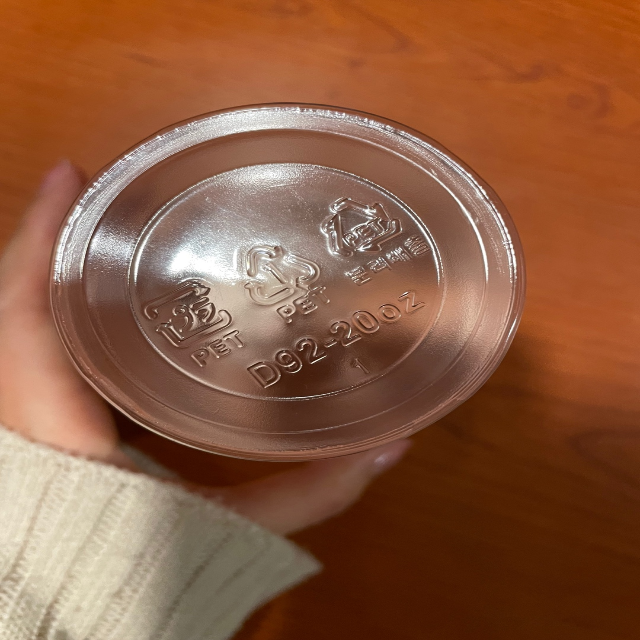pet: (134, 274, 249, 365), (326, 190, 432, 284), (238, 236, 336, 323)
